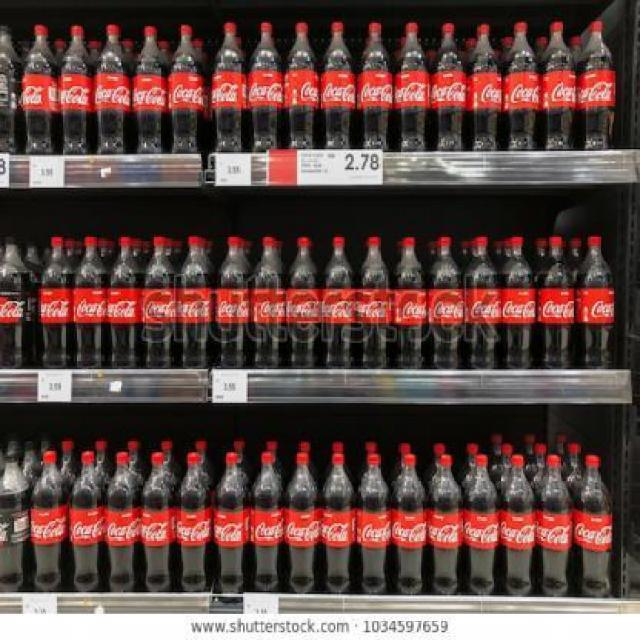Drinks: (572, 454, 614, 597), (32, 451, 70, 593), (575, 236, 615, 370), (213, 451, 250, 594), (536, 454, 573, 597), (320, 452, 357, 594), (463, 454, 500, 596), (500, 455, 537, 597), (576, 19, 616, 150), (70, 451, 106, 593), (106, 451, 142, 593), (249, 452, 285, 594), (285, 452, 321, 594), (356, 453, 392, 595), (427, 453, 463, 595), (141, 453, 177, 593), (177, 452, 213, 592), (392, 454, 428, 594), (176, 236, 214, 368), (21, 25, 59, 156), (392, 21, 430, 152), (428, 236, 465, 370), (464, 236, 501, 370), (500, 236, 537, 370), (537, 236, 574, 370), (502, 22, 540, 151), (211, 20, 248, 152), (248, 21, 285, 153), (95, 24, 132, 155), (215, 236, 251, 370), (251, 236, 287, 370), (286, 236, 322, 370), (393, 236, 429, 370), (168, 24, 205, 153), (430, 23, 467, 152), (540, 21, 577, 150), (38, 236, 74, 368), (73, 236, 109, 368), (321, 236, 357, 368), (357, 236, 393, 368), (357, 23, 393, 152), (59, 25, 95, 154), (131, 26, 167, 155), (467, 23, 503, 152), (284, 22, 320, 150), (320, 22, 356, 150), (142, 236, 176, 370), (0, 450, 32, 592), (108, 236, 142, 368), (1, 235, 33, 369)
